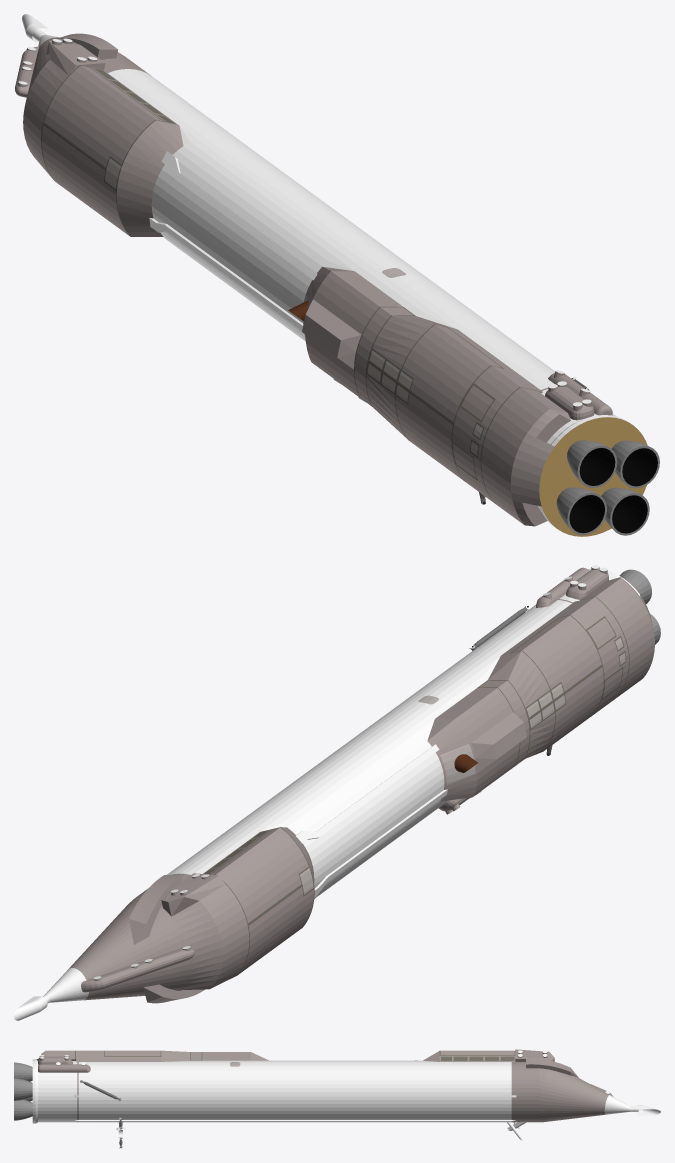
Rendered from booster3.obj.
3 renders of one model, top to bottom at view 1: azimuth 30°, elevation 25°; view 2: azimuth 150°, elevation 25°; view 3: azimuth 270°, elevation 25°, orthographic. The views are drawn at different scales.
Visible parts, largest first — view 1: group1, group2, group10, group4, group0, group8, group7; view 2: group1, group2, group0, group7, group8; view 3: group2, group1, group8, group0, group3.
Part boxes in pixels (bbox=[...]): group1: bbox=[15, 33, 612, 526]; group2: bbox=[18, 14, 630, 526]; group10: bbox=[539, 417, 647, 536]; group4: bbox=[569, 447, 657, 533]; group0: bbox=[41, 65, 537, 503]; group8: bbox=[556, 440, 659, 535]; group7: bbox=[105, 158, 482, 455]; group1: bbox=[69, 567, 654, 1003]; group2: bbox=[14, 565, 640, 1020]; group0: bbox=[204, 596, 629, 975]; group7: bbox=[300, 638, 625, 894]; group8: bbox=[619, 569, 660, 644]; group2: bbox=[32, 1050, 660, 1148]; group1: bbox=[36, 1049, 613, 1122]; group8: bbox=[14, 1062, 32, 1120]; group0: bbox=[75, 1050, 515, 1060]; group3: bbox=[80, 1080, 122, 1147].
Size of the model in its own units: 5.15 by 4.98 by 37.7.
